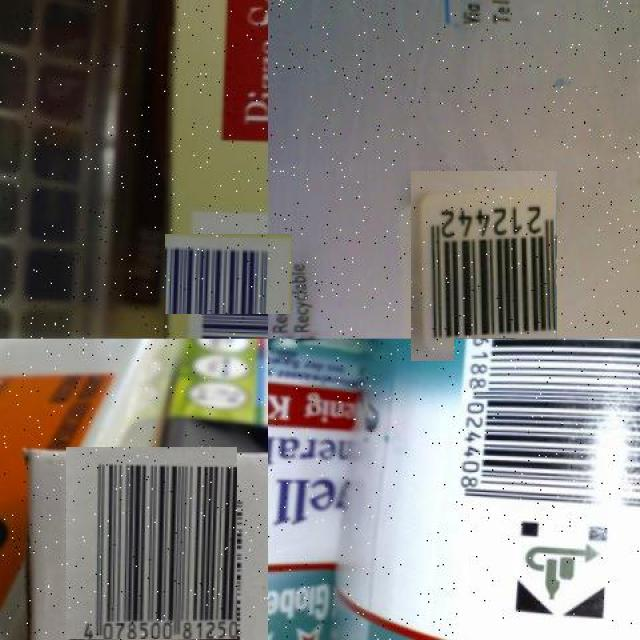Barcode: (55, 457, 248, 640), (454, 338, 640, 516), (400, 182, 569, 350), (176, 222, 280, 326)
